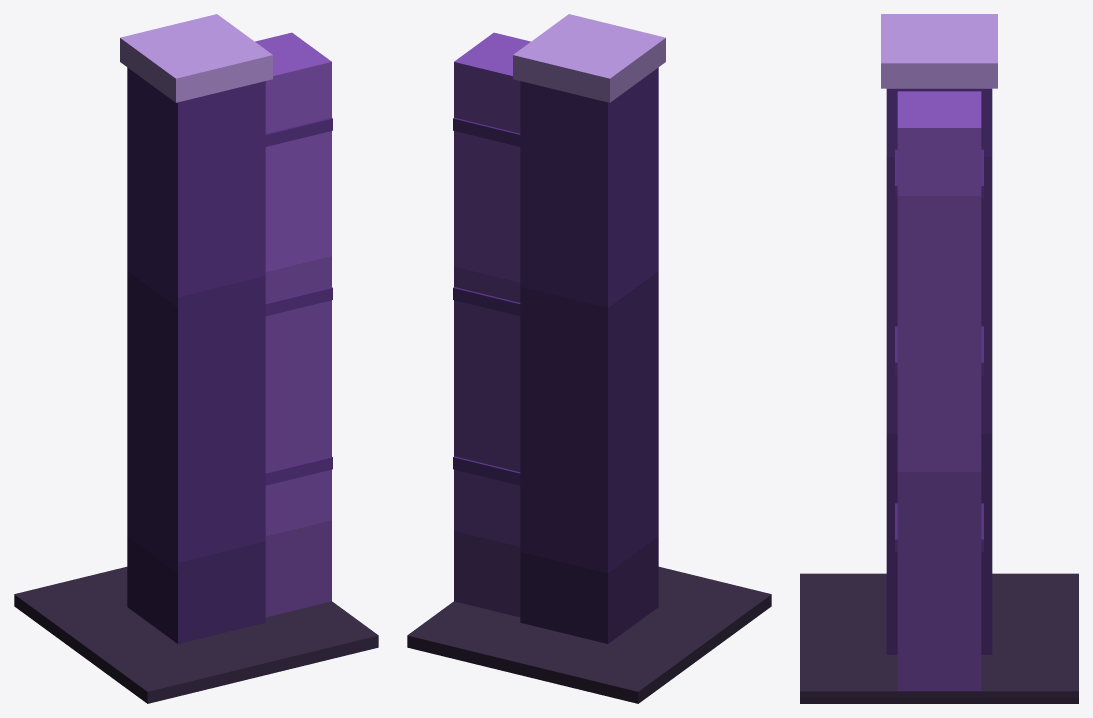
Rendered from model_45_crystal_end.glb.
3 views of the same model, side by side, from view 1: azimuth 30°, elevation 25°; view 2: azimuth 150°, elevation 25°; view 3: azimuth 270°, elevation 25° (orthographic). The views are drawn at different scales.
Size of the model in its own units: 1 by 2.4 by 1.
Materials: 1 (1 with a texture image).
